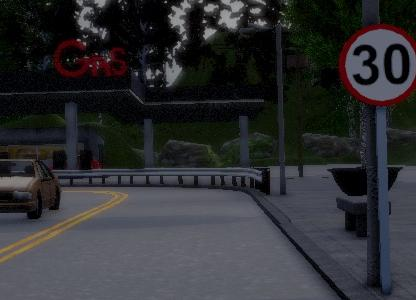Speed_30: (333, 21, 416, 104)
